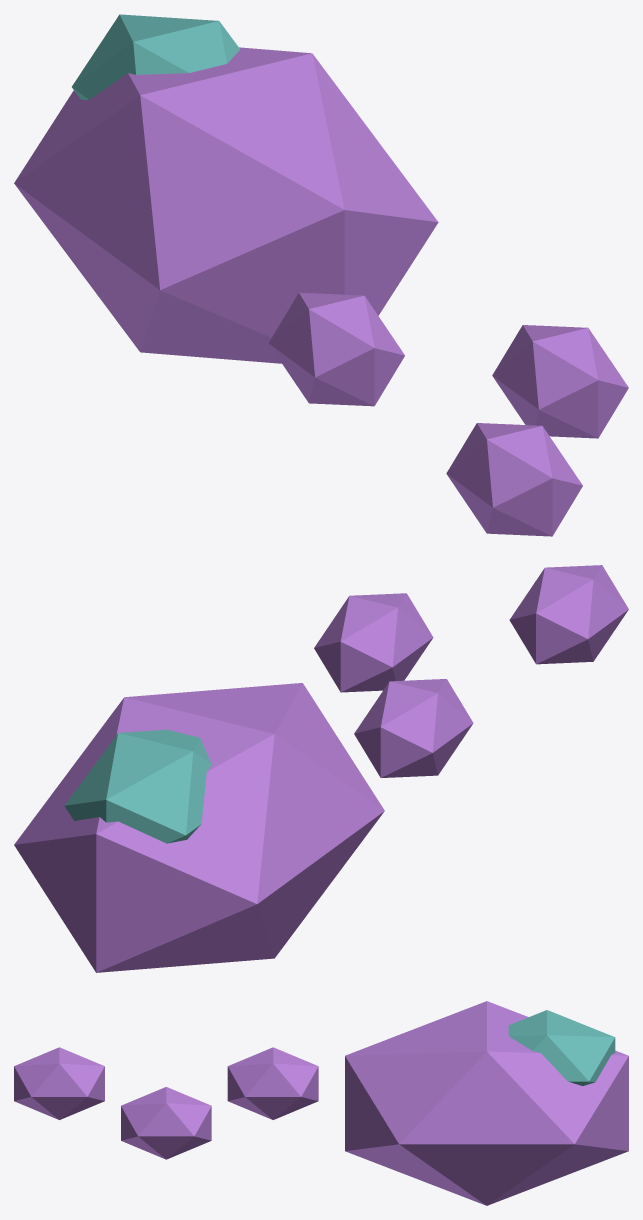
Rendered from projectile_toxic_spit.glb.
3 renders of one model, top to bottom at view 1: azimuth 30°, elevation 25°; view 2: azimuth 150°, elevation 25°; view 3: azimuth 270°, elevation 25°, orthographic. The views are drawn at different scales.
Parts seen in each view (by area): view 1: sac, droplet_2, droplet_0, droplet_1, core; view 2: sac, core, droplet_2, droplet_0, droplet_1; view 3: sac, droplet_0, droplet_1, droplet_2, core.
Boxes of the visible parts, x1,y1,x2,y2 form: sac: [14, 47, 438, 363]; droplet_2: [446, 423, 582, 536]; droplet_0: [268, 292, 404, 406]; droplet_1: [492, 325, 628, 438]; core: [72, 14, 240, 99]; sac: [14, 683, 384, 972]; core: [64, 729, 211, 843]; droplet_2: [509, 565, 628, 664]; droplet_0: [354, 679, 473, 777]; droplet_1: [314, 593, 433, 692]; sac: [345, 1001, 628, 1205]; droplet_0: [227, 1047, 318, 1119]; droplet_1: [121, 1087, 211, 1159]; droplet_2: [14, 1047, 104, 1119]; core: [508, 1010, 615, 1085].
Size of the model in its own units: 0.2892 by 0.2614 by 0.9207.
